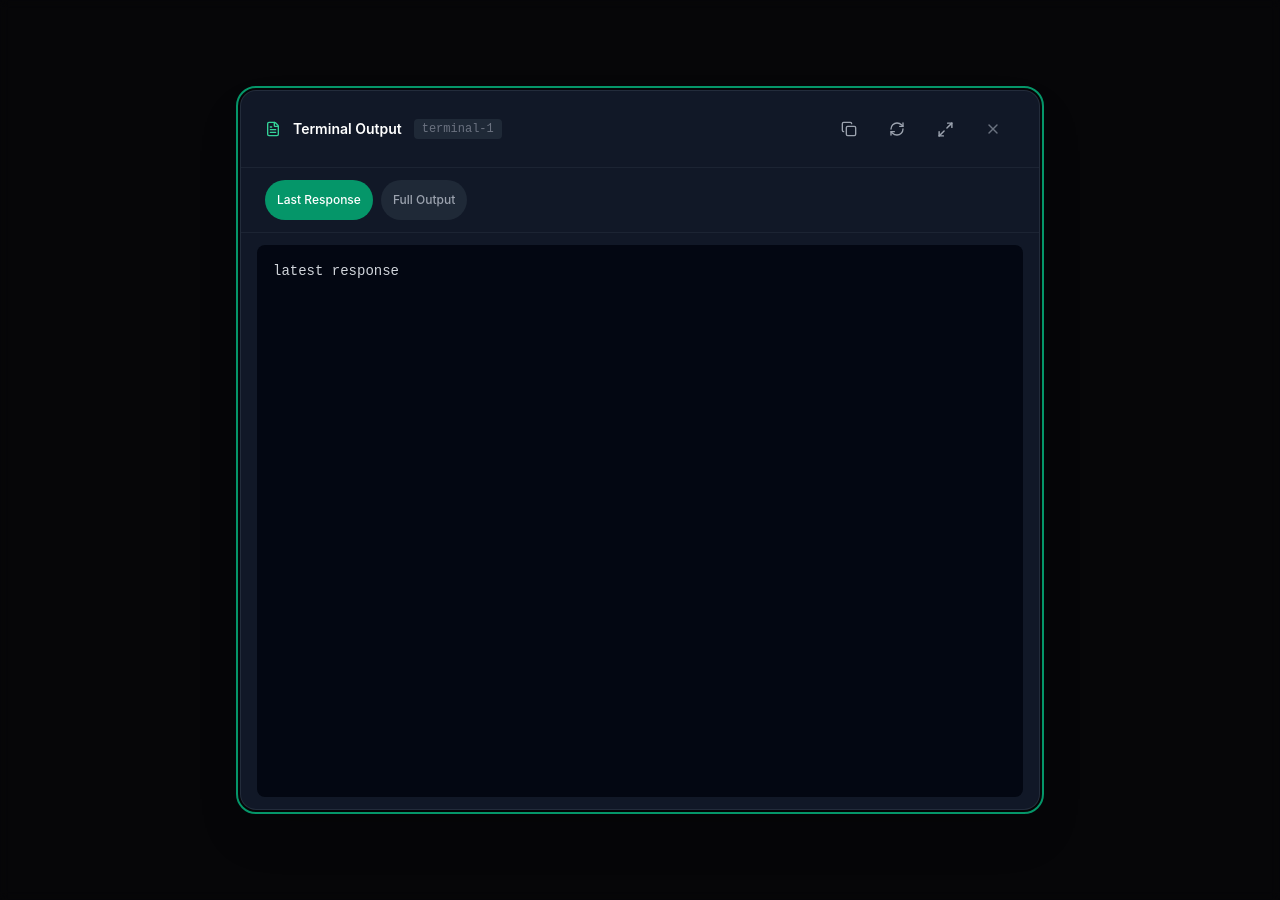
Test: OutputViewer fullscreen › refreshes full output from the newest snapshot
Check: the text "latest response" is shown, box [257,245,1023,797]
Click the button "Full Output". click: (424, 200)
box: [381,180,467,220]
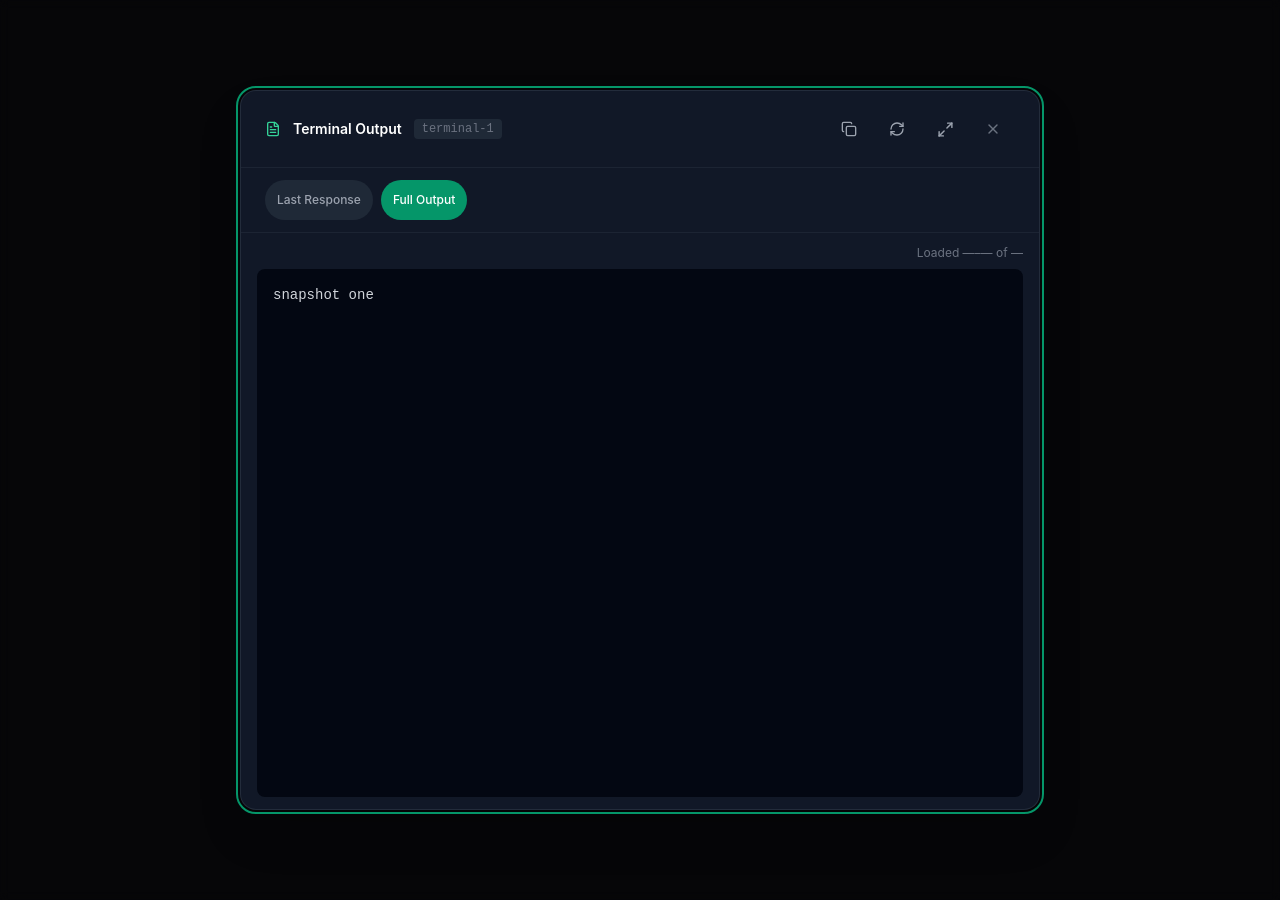
Check: the text "snapshot one" is shown, box [257,269,1023,797]
Click the button titled "Refresh output". click: (897, 129)
box: [875,107,919,151]
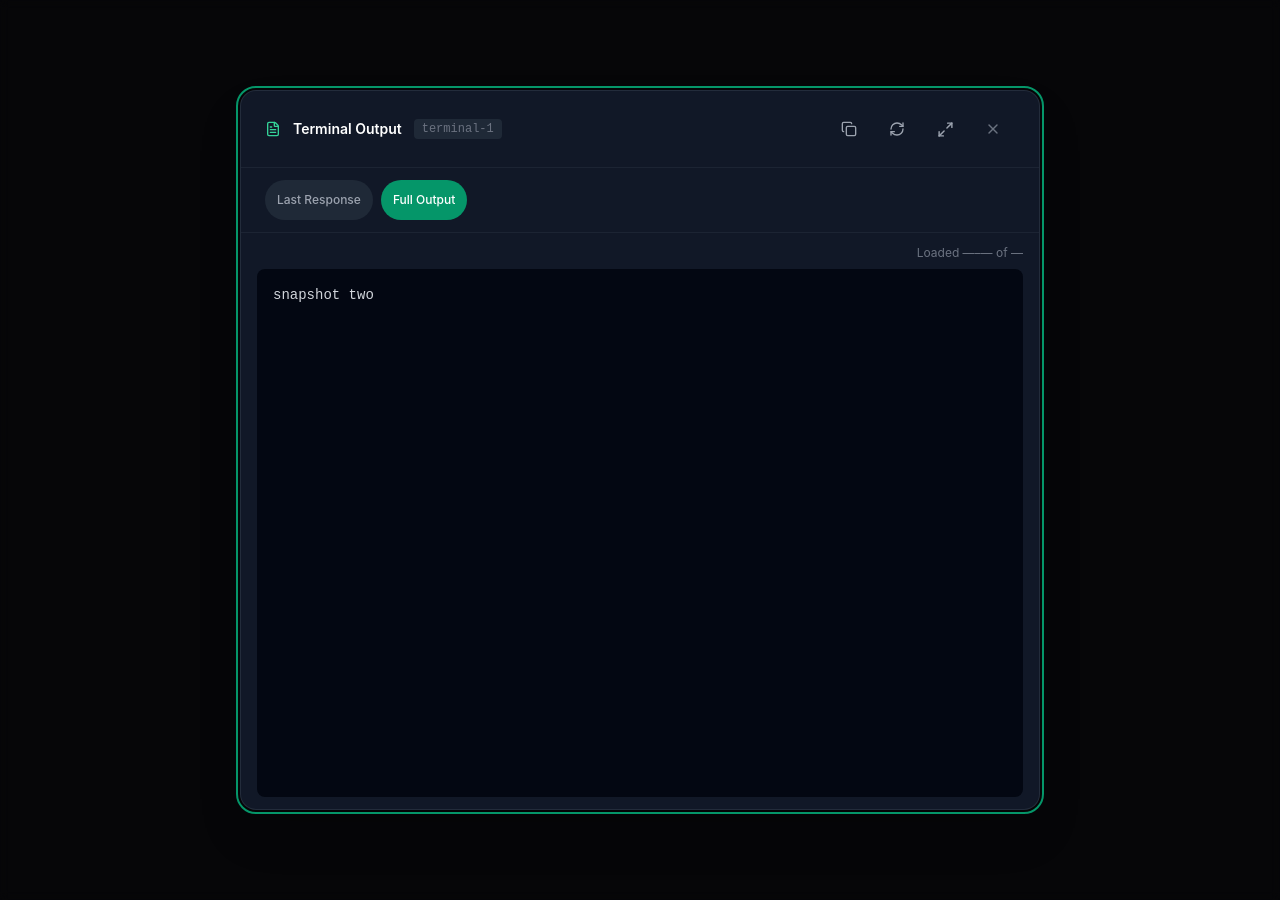
Check: the text "snapshot two" is shown, box [257,269,1023,797]
